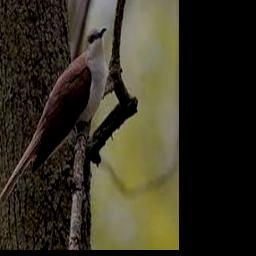Cuckoo: (0, 26, 106, 231)
